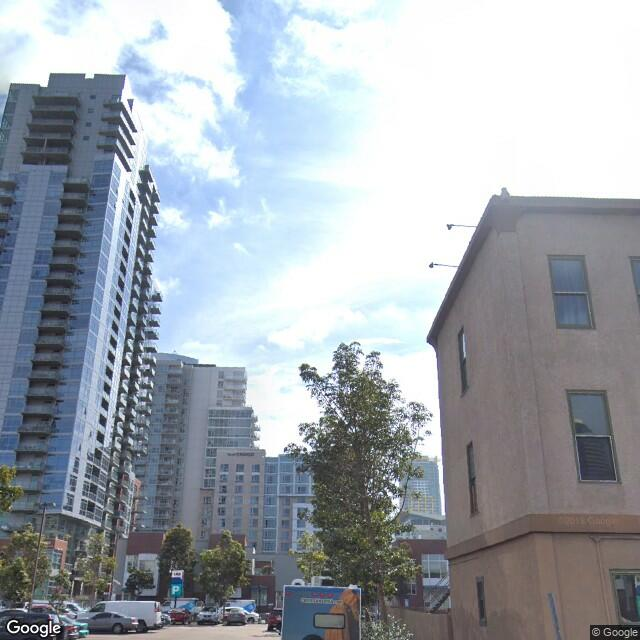window: (566, 387, 617, 488), (548, 254, 599, 329)
